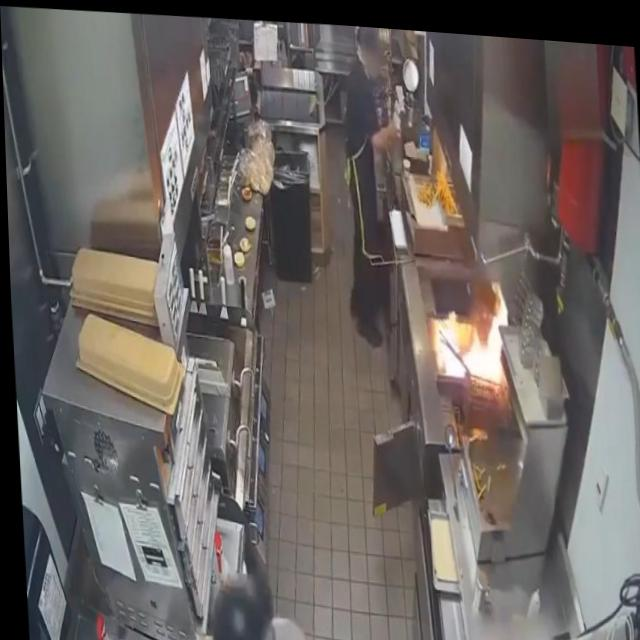fire: (430, 268, 514, 389)
